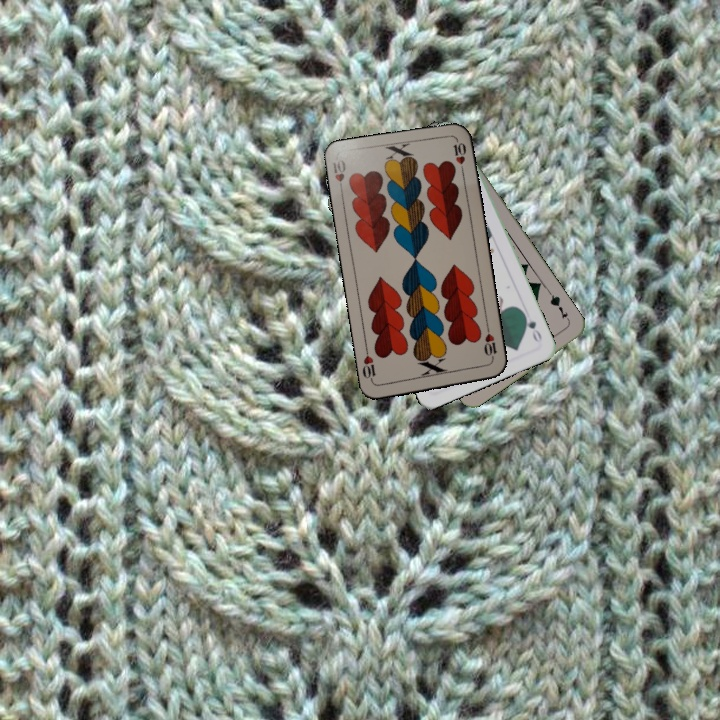G7: (545, 289, 570, 321)
GO: (519, 308, 544, 345)
H10: (480, 323, 500, 364), (329, 155, 348, 196)
